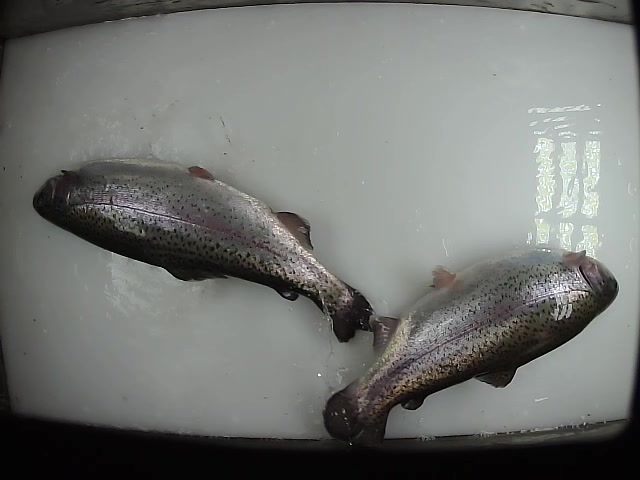fish: (31, 153, 375, 349), (321, 245, 623, 450)
